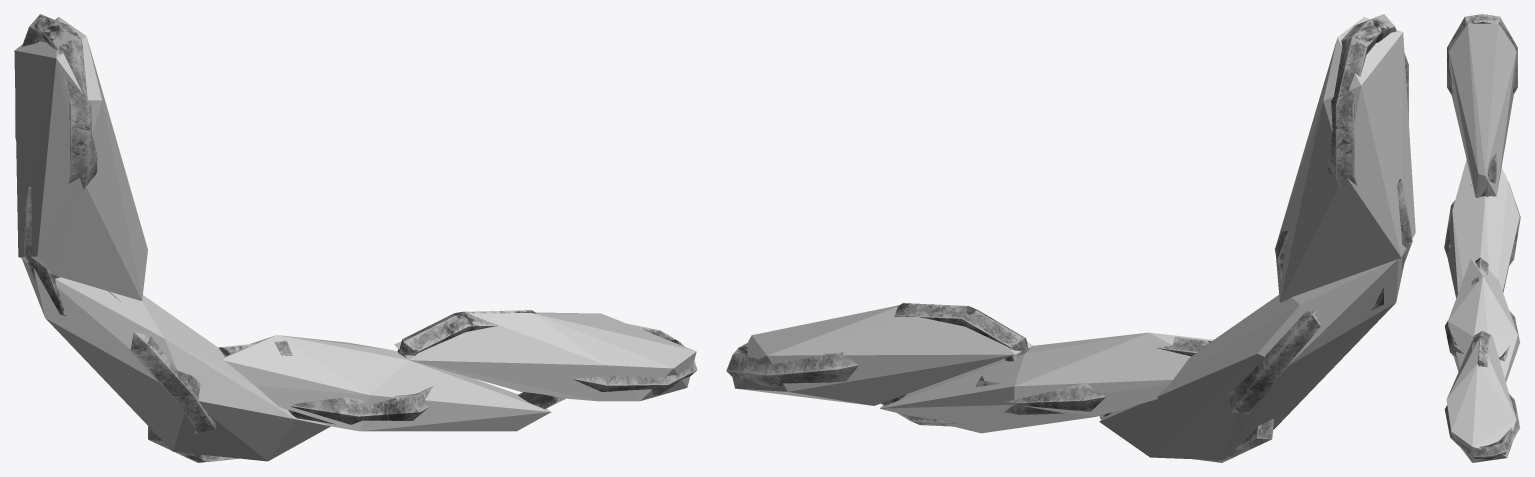
3 views of the same model, side by side, from view 1: azimuth 30°, elevation 25°; view 2: azimuth 150°, elevation 25°; view 3: azimuth 270°, elevation 25° (orthographic). The views are drawn at different scales.
Parts seen in each view (by area): view 1: SM_22_ConvexHulls, SM_22; view 2: SM_22_ConvexHulls, SM_22; view 3: SM_22_ConvexHulls, SM_22.
Part boxes in pixels (left/top/right/bottom): SM_22_ConvexHulls: left=14, top=17, right=696, bottom=461; SM_22: left=15, top=14, right=697, bottom=462; SM_22_ConvexHulls: left=732, top=17, right=1415, bottom=460; SM_22: left=726, top=14, right=1412, bottom=462; SM_22_ConvexHulls: left=1446, top=23, right=1519, bottom=462; SM_22: left=1444, top=14, right=1520, bottom=459.
Size of the model in its own units: 150 by 26.84 by 110.
2 materials, 1 textured.
